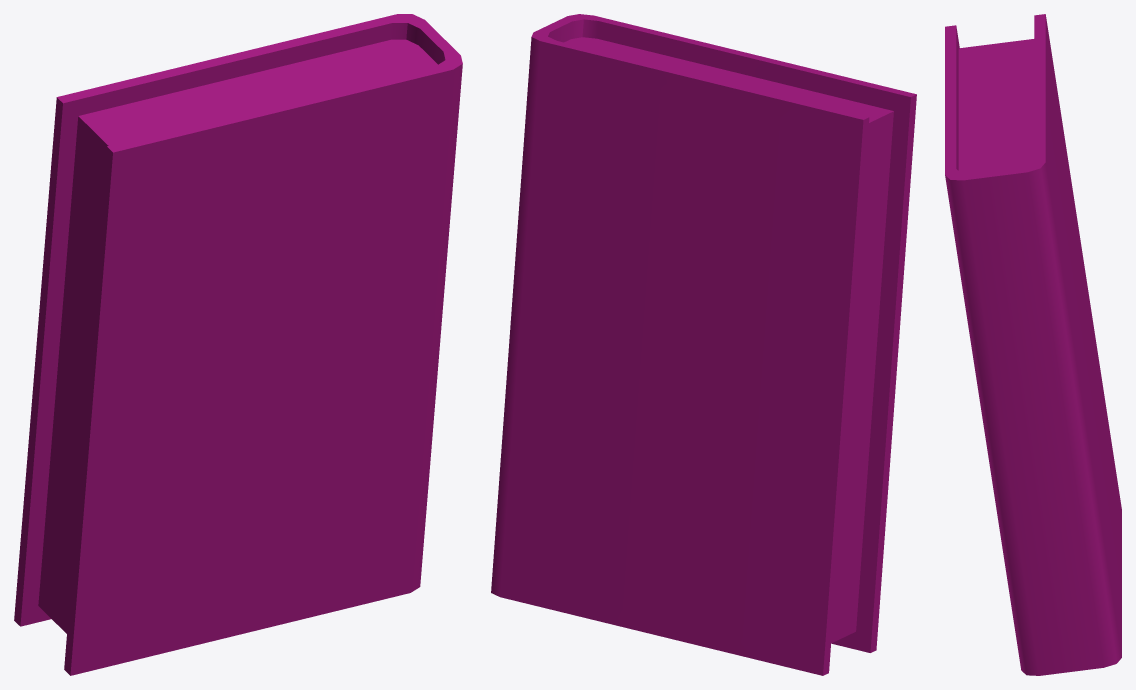
Rendered from BigBook.fbx.
3 renders of one model, left to right at view 1: azimuth 30°, elevation 25°; view 2: azimuth 150°, elevation 25°; view 3: azimuth 270°, elevation 25°, orthographic. The views are drawn at different scales.
Visible parts, largest first — view 1: PR_Bookspine_02, PR_Paper_02; view 2: PR_Bookspine_02, PR_Paper_02; view 3: PR_Bookspine_02, PR_Paper_02.
Part boxes in pixels (x1,y1,x2,y2): PR_Bookspine_02: (14,14,462,675); PR_Paper_02: (38,39,437,633); PR_Bookspine_02: (491,14,916,675); PR_Paper_02: (564,37,893,643); PR_Bookspine_02: (945,14,1121,675); PR_Paper_02: (958,39,1034,174).
Size of the model in its own units: 31.8 by 48.3 by 15.24.
